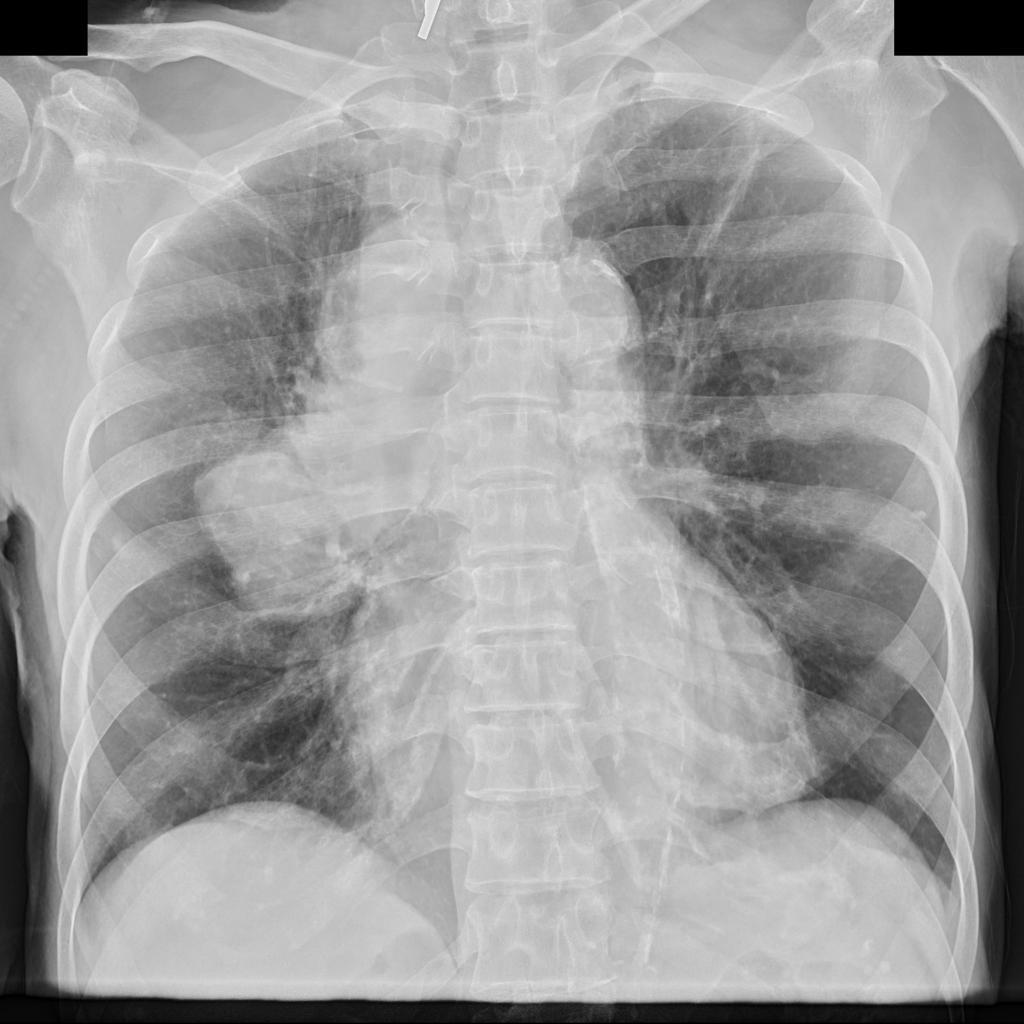Nodule: (188, 203, 458, 616)
